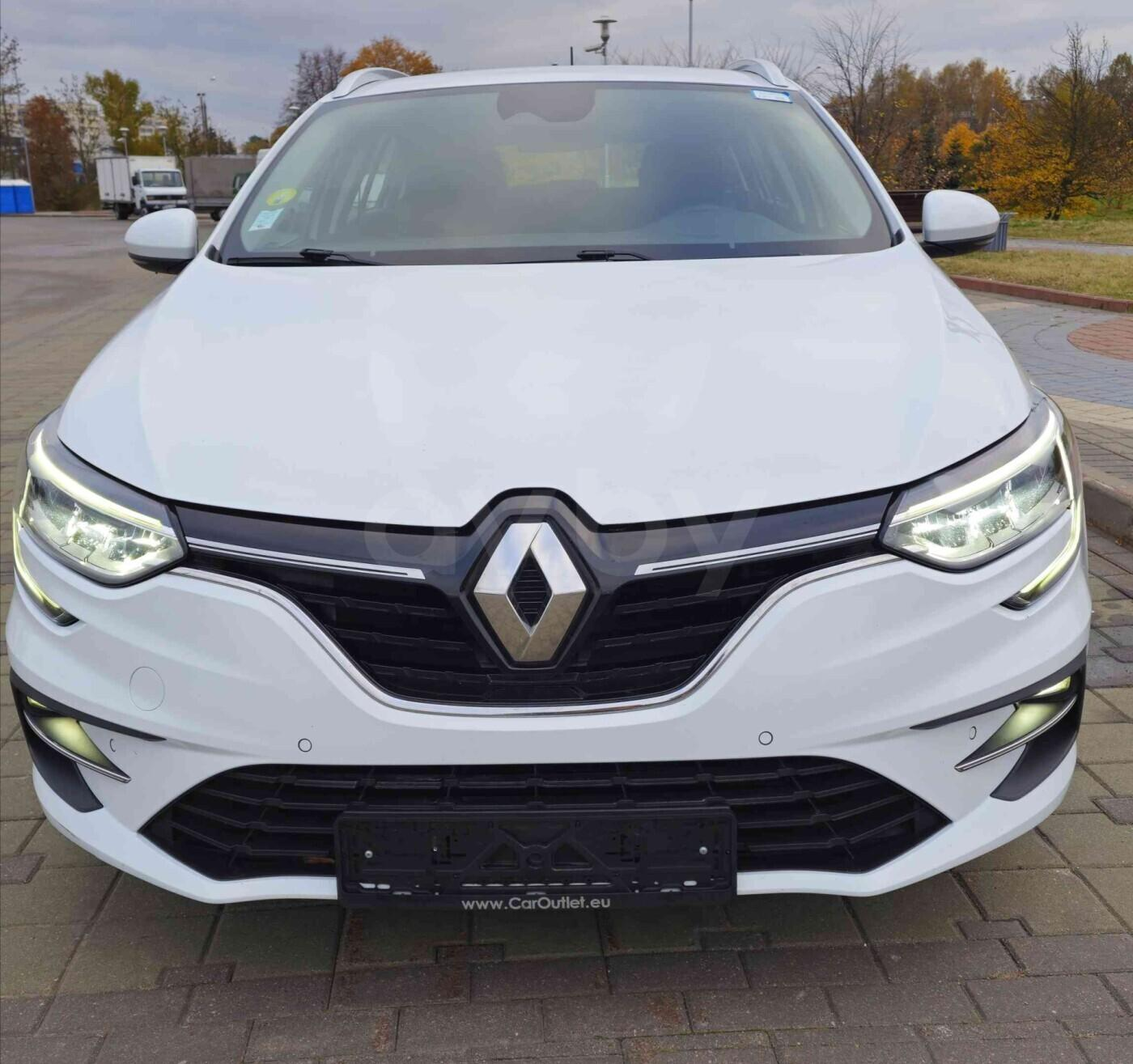Megane_2020: (0, 63, 1097, 923)
